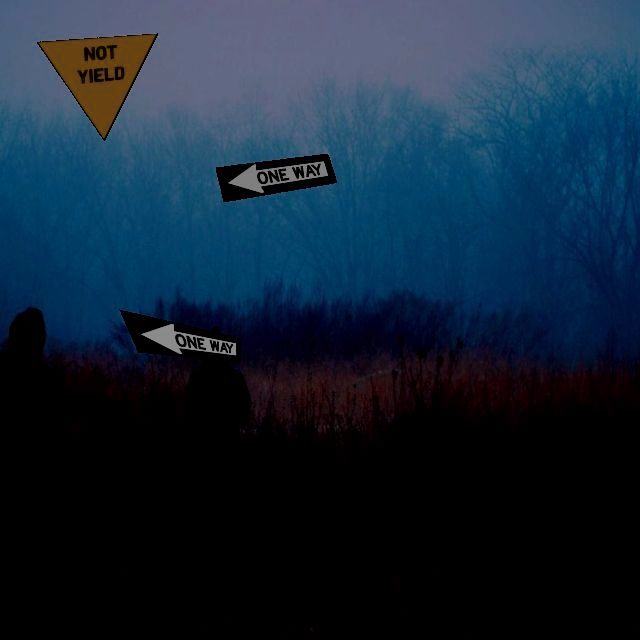NOT_YIELD: (36, 33, 158, 141)
ONE_WAY_ left: (119, 309, 241, 362), (215, 153, 337, 202)
